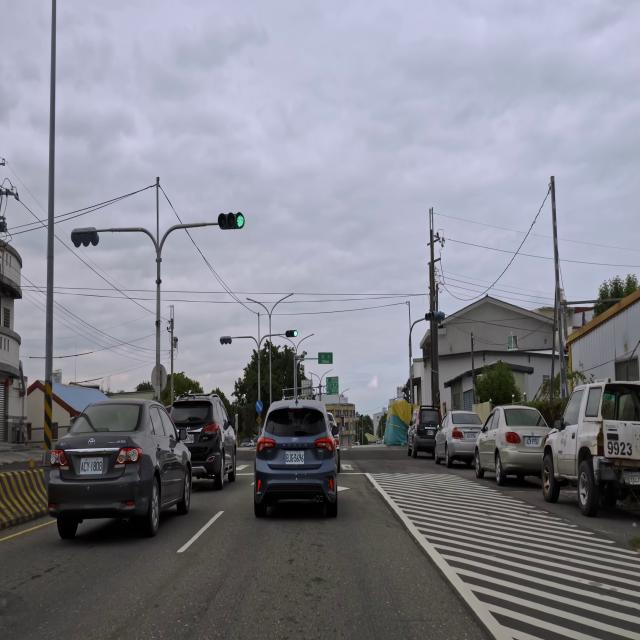green light: (217, 212, 245, 228), (285, 330, 298, 337)
